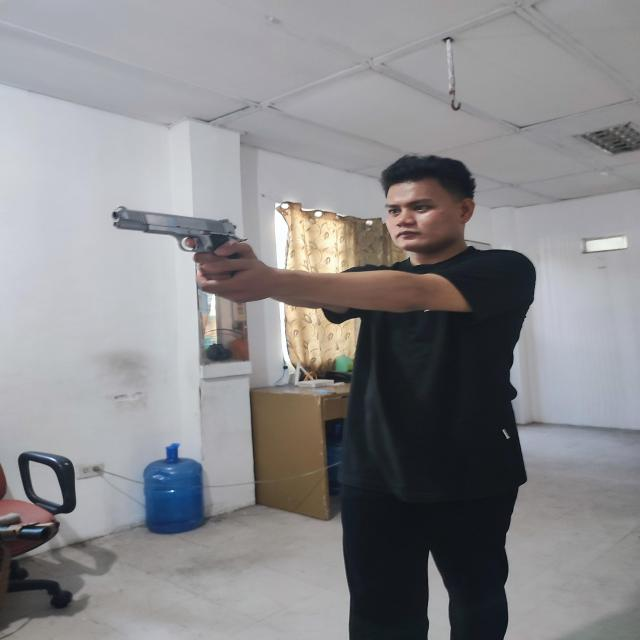pistol: (112, 206, 247, 252)
